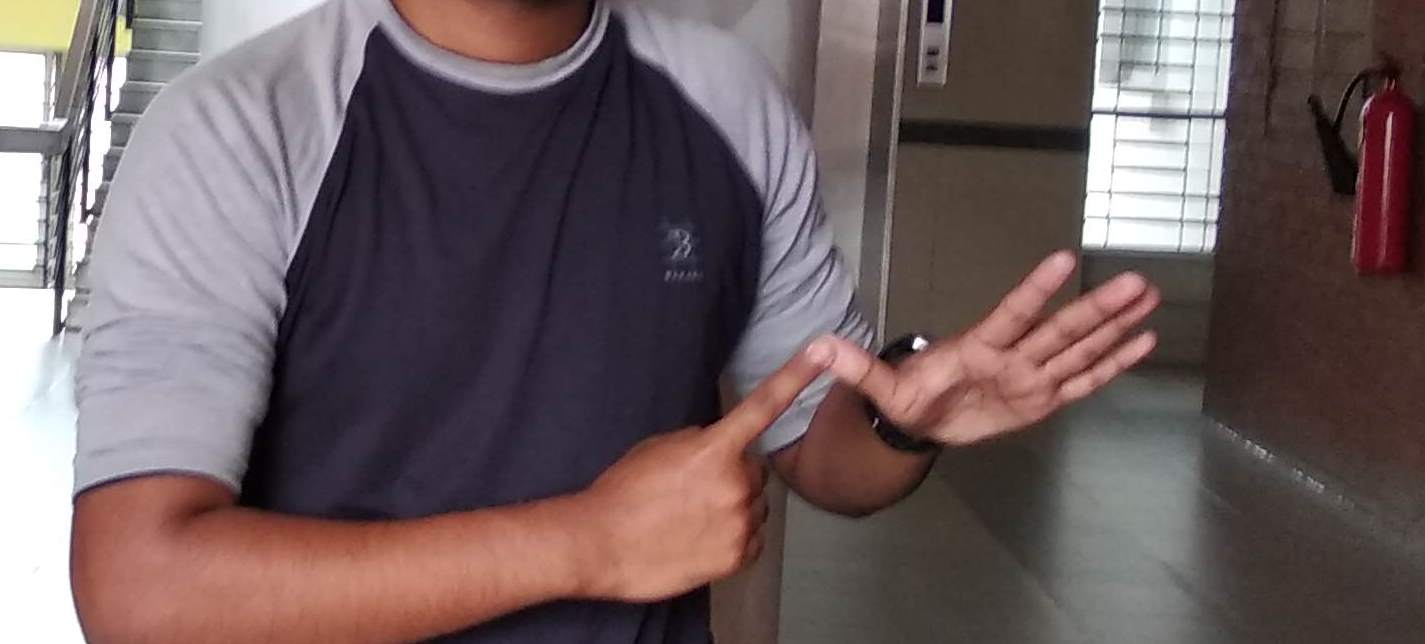a: (624, 258, 1132, 596)
